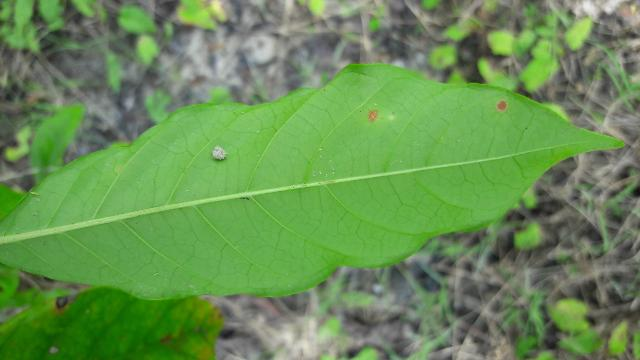rust_level_1: (6, 66, 622, 302)
